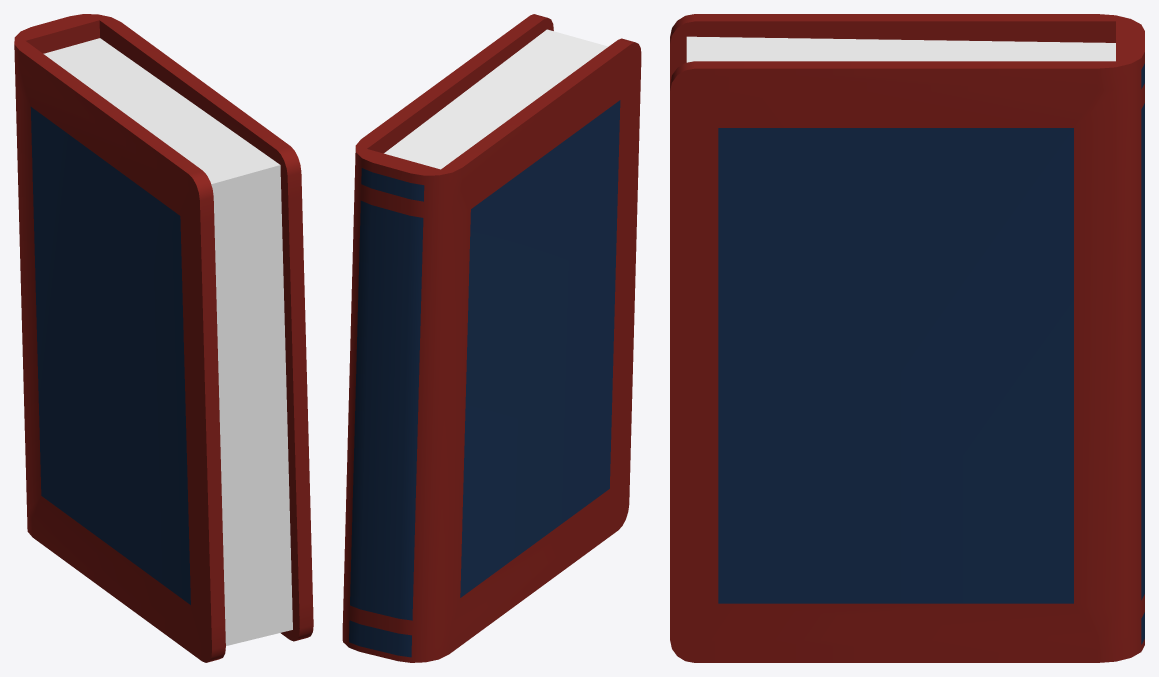
The model's file is book_9.fbx.
The picture shows the model from 3 angles, left to right: view 1: azimuth 30°, elevation 25°; view 2: azimuth 150°, elevation 25°; view 3: azimuth 270°, elevation 25°; orthographic projection. The views are drawn at different scales.
Parts seen in each view (by area): view 1: book_9; view 2: book_9; view 3: book_9.
Boxes of the visible parts, x1,y1,x2,y2 form: book_9: (14, 14, 313, 662); book_9: (342, 14, 641, 662); book_9: (670, 14, 1144, 662).
Size of the model in its own units: 0.0817 by 0.336 by 0.2462.
